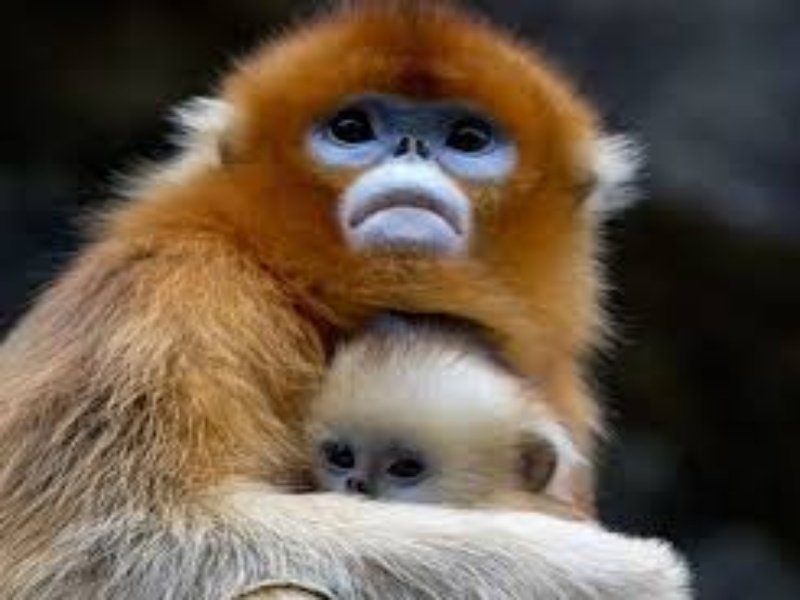monkey: (247, 1, 582, 334), (279, 341, 583, 535)
